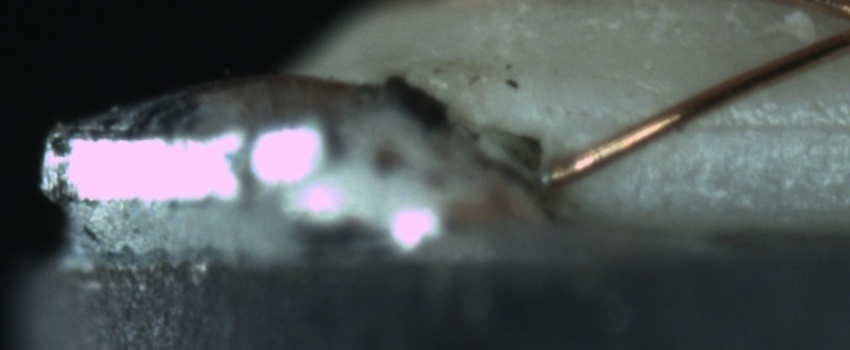DL: (676, 92, 849, 159)
